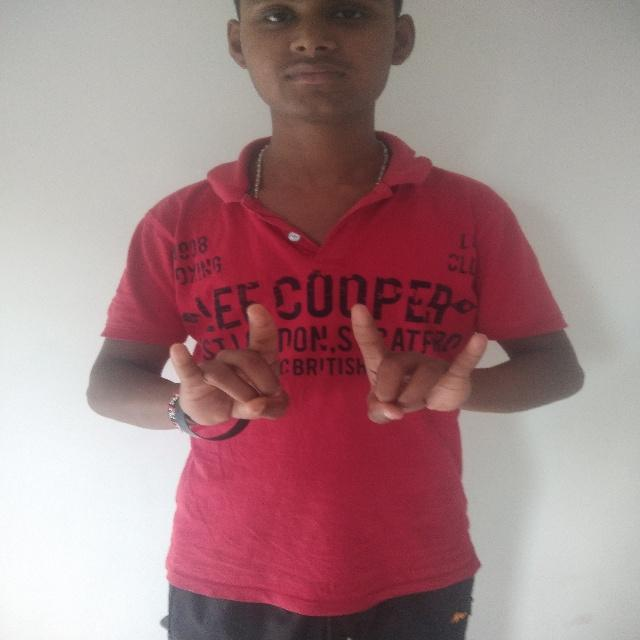Corna: (153, 292, 300, 442), (342, 296, 491, 437)
